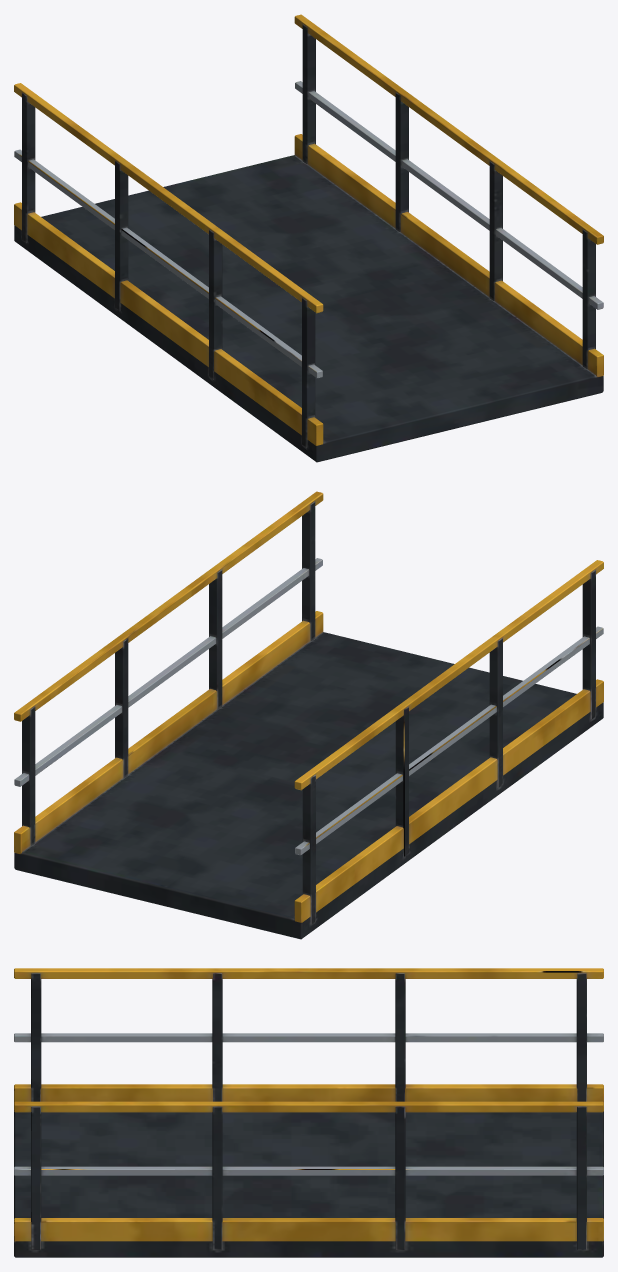
The model's file is metal_catwalk.glb.
3 renders of one model, top to bottom at view 1: azimuth 30°, elevation 25°; view 2: azimuth 150°, elevation 25°; view 3: azimuth 270°, elevation 25°, orthographic. The views are drawn at different scales.
Visible parts, largest first — view 1: MetalCatwalk; view 2: MetalCatwalk; view 3: MetalCatwalk.
Boxes of the visible parts, bbox=[...] form: MetalCatwalk: bbox=[14, 14, 603, 462]; MetalCatwalk: bbox=[14, 491, 603, 939]; MetalCatwalk: bbox=[14, 968, 603, 1257].
Bounding box in the file's own units: 2.21 × 1.15 × 4.
Materials: 1 (1 with a texture image).
